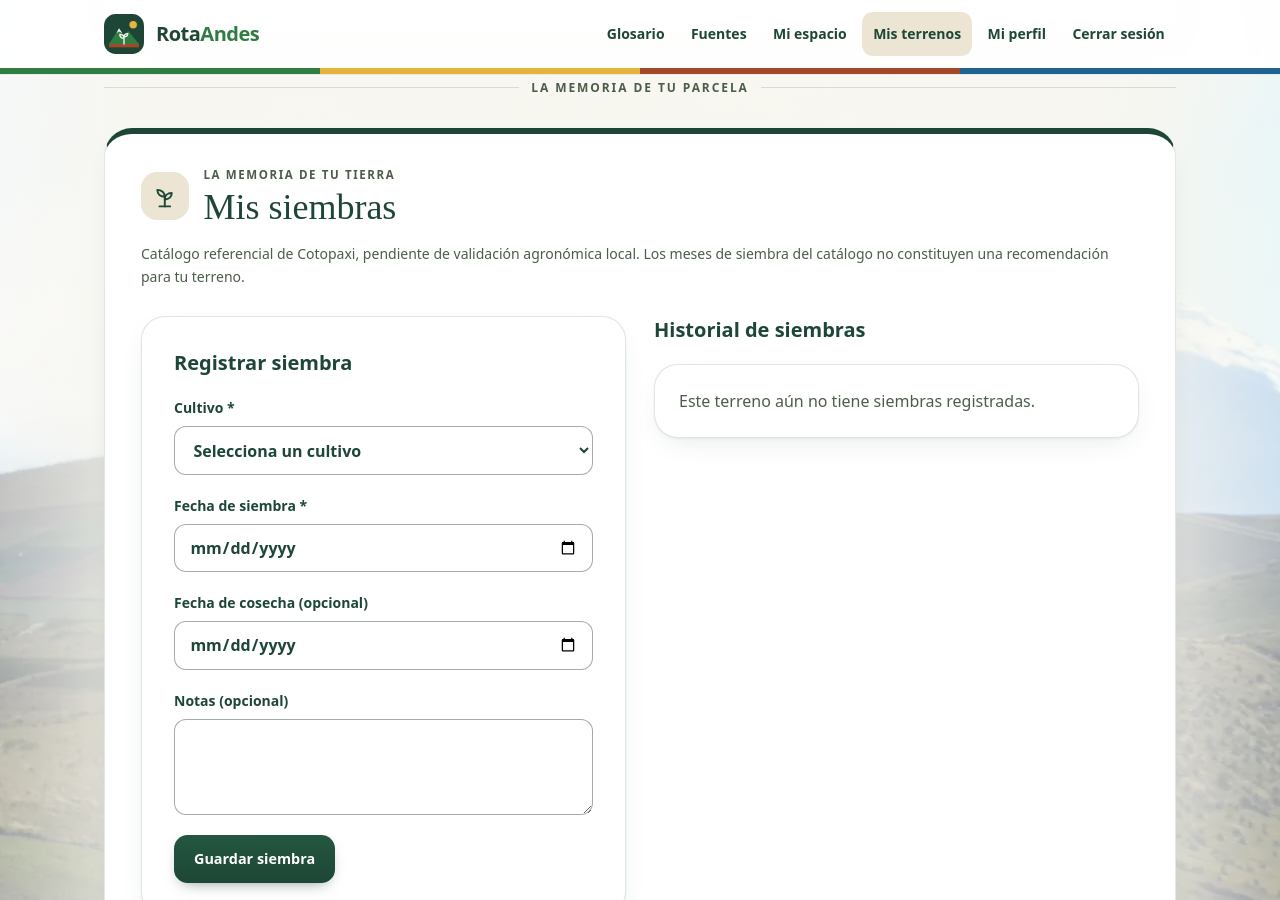
Scenario: Interfaz de terrenos y siembras › registra una siembra sin cosecha y muestra historial con fechas civiles
This screenshot has width=1280, height=900.
(page scrolled)
Expected: the button "Guardar siembra" is shown, [174, 835, 335, 883]
Select "Papa" in the dropdown labelled "Cultivo *". click: (384, 451)
box: [174, 426, 593, 475]
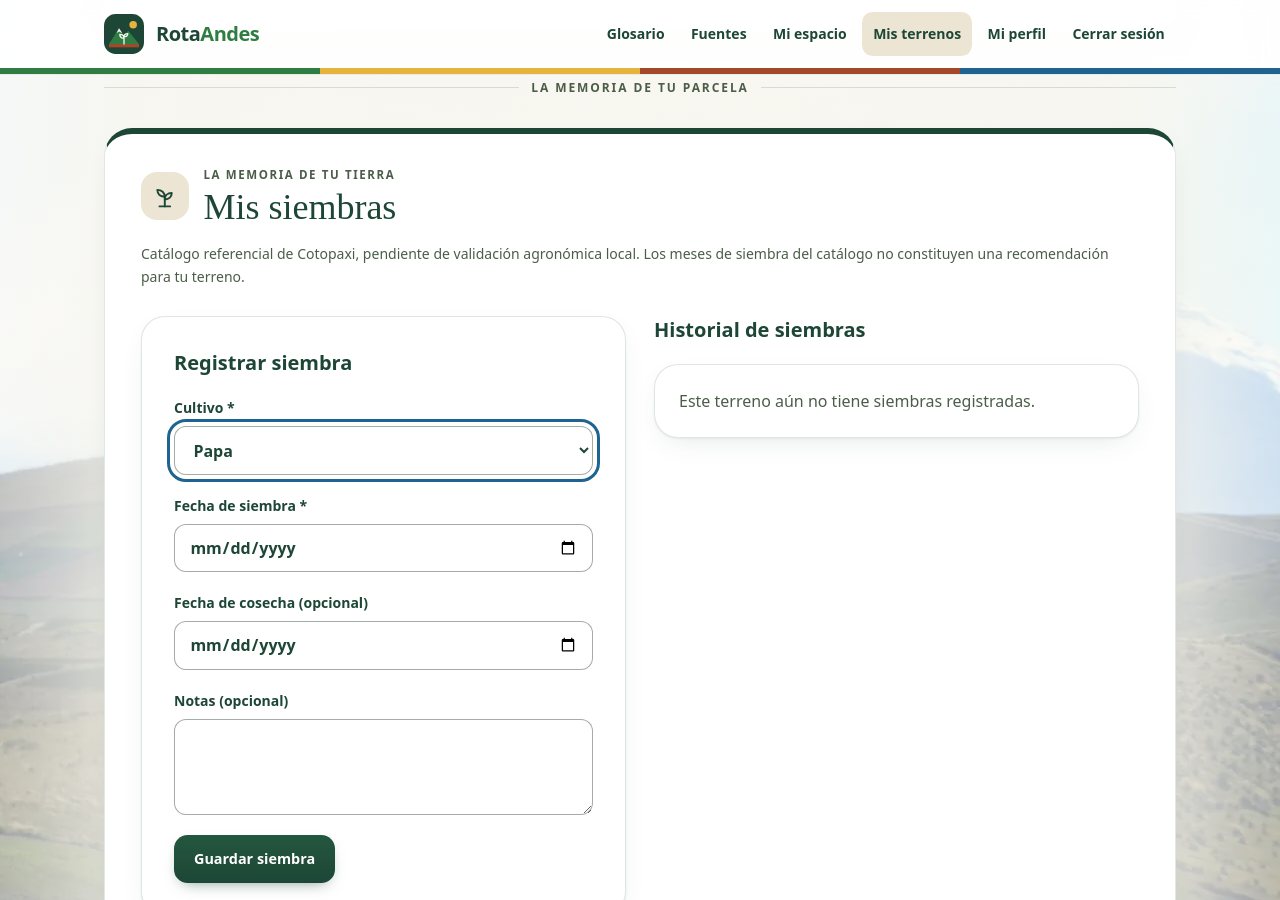
Type "2024-02-29" into the date field labelled "Fecha de siembra *". click: (384, 548)
box: [174, 524, 593, 572]
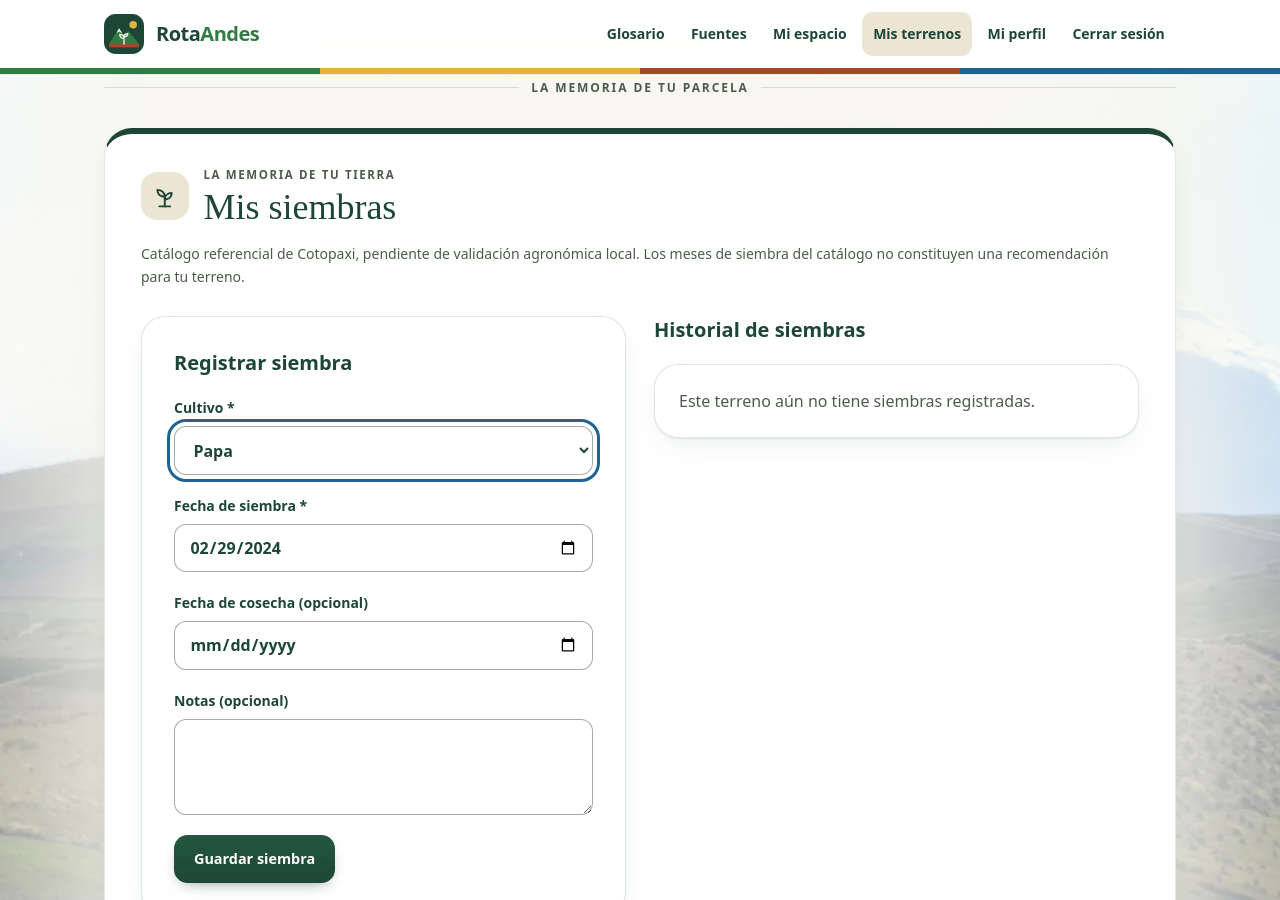
Click the button "Guardar siembra". click: (255, 859)
box: [174, 835, 335, 883]
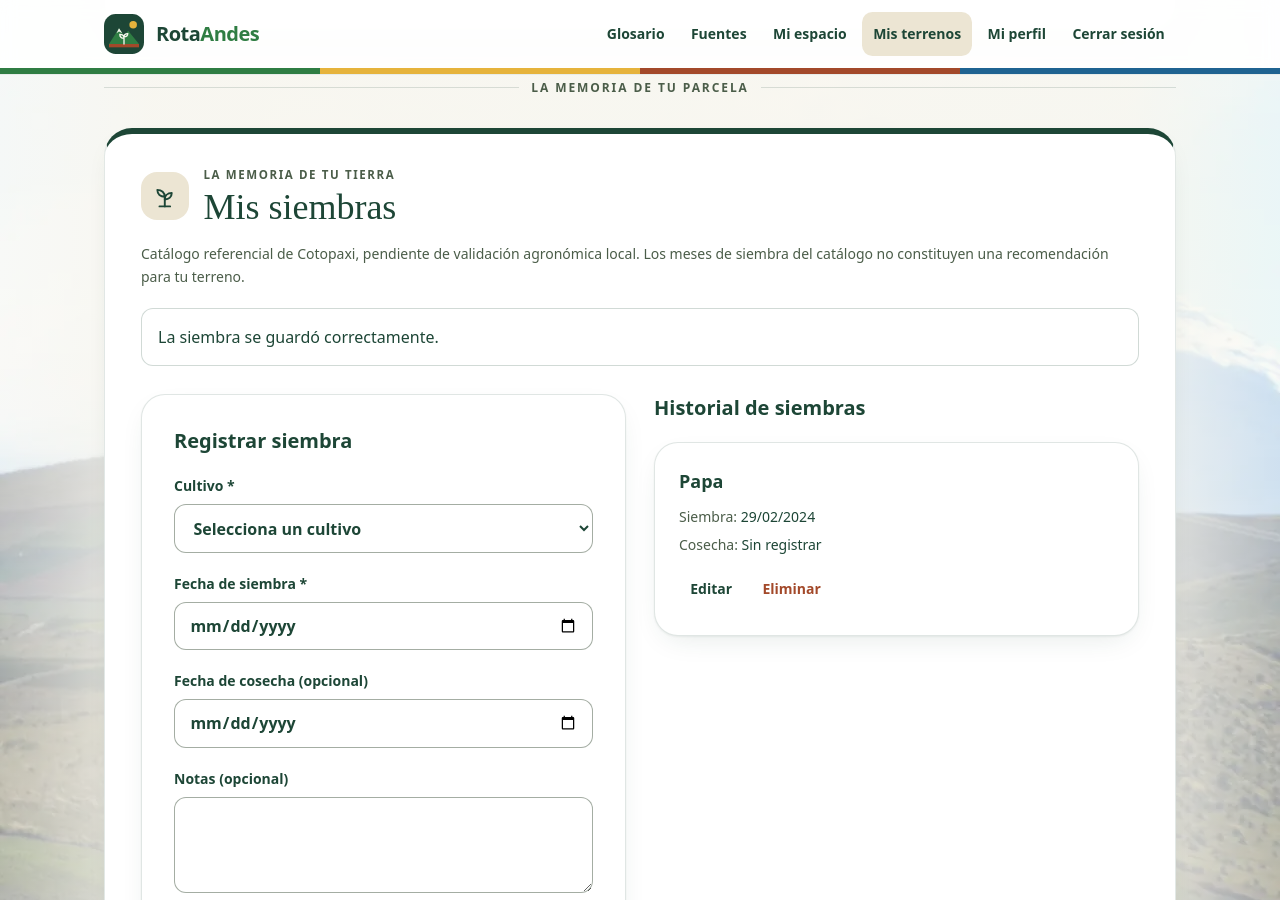
Now the text "La siembra se guardó correctamente." is shown, box [141, 308, 1139, 366]
Now the text "29/02/2024" is shown, box [741, 508, 815, 526]
Now the text "Sin registrar" is shown, box [742, 536, 822, 554]
